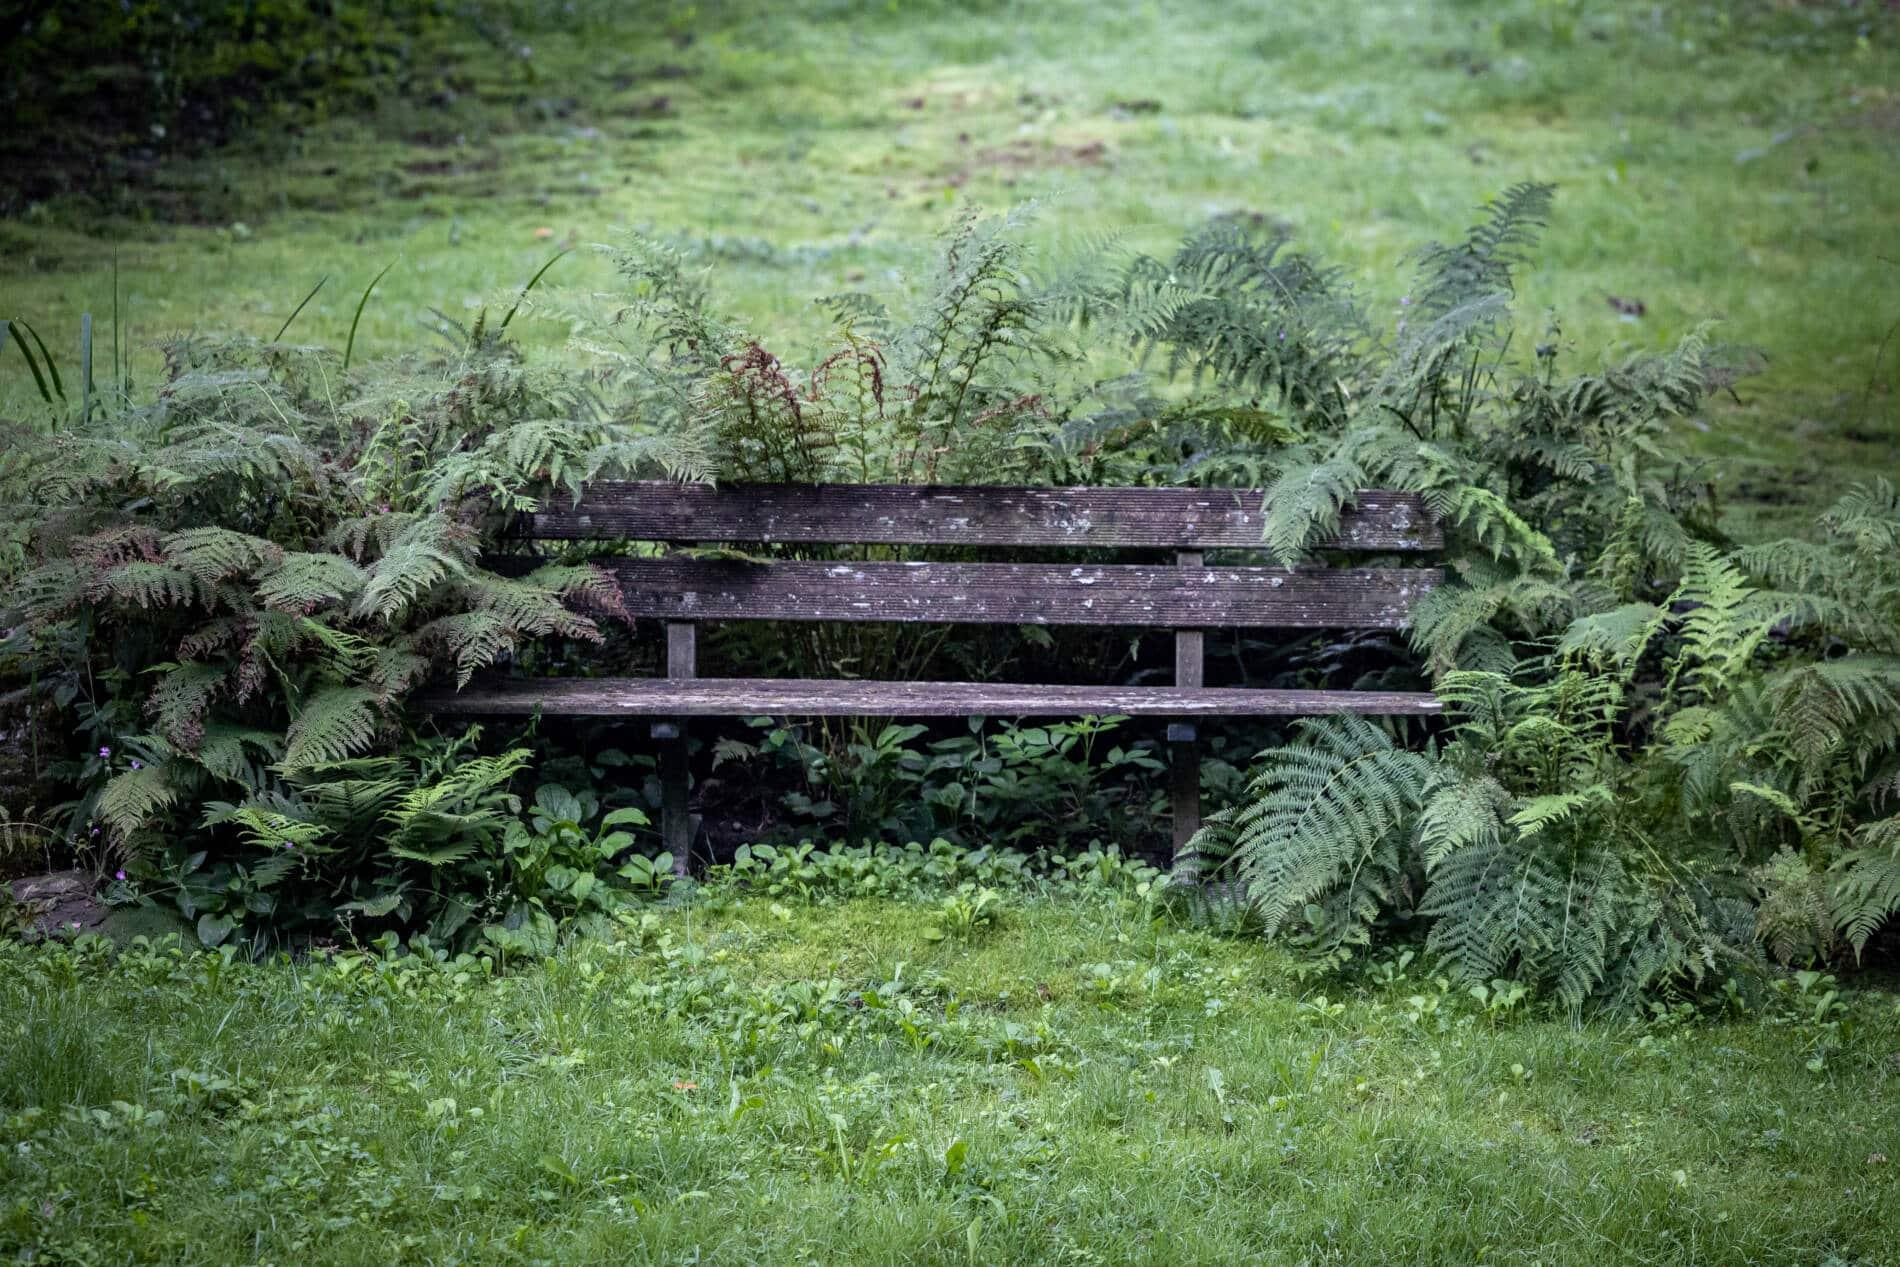overgrown grass: (0, 182, 1899, 1007), (707, 716, 1163, 901), (498, 789, 669, 928)
